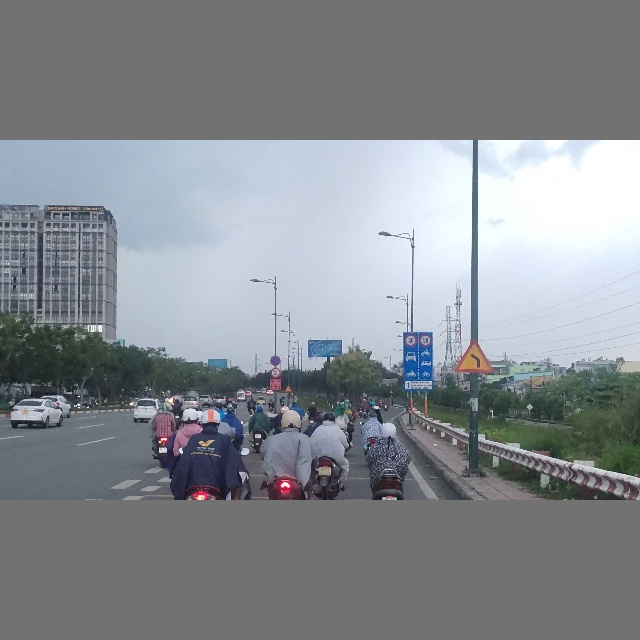P.111: (270, 367, 281, 379)
P.127*50: (418, 334, 433, 347), (404, 333, 417, 347)
P.130: (269, 355, 281, 366)
W.201a: (454, 336, 494, 373), (285, 385, 292, 392)
